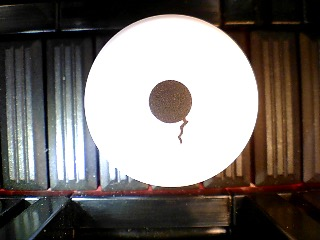CRACK: (83, 14, 259, 188)
